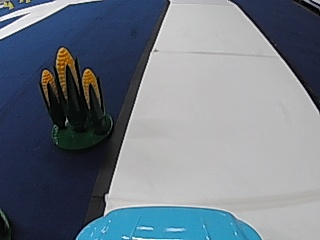corn: (37, 43, 116, 150)
